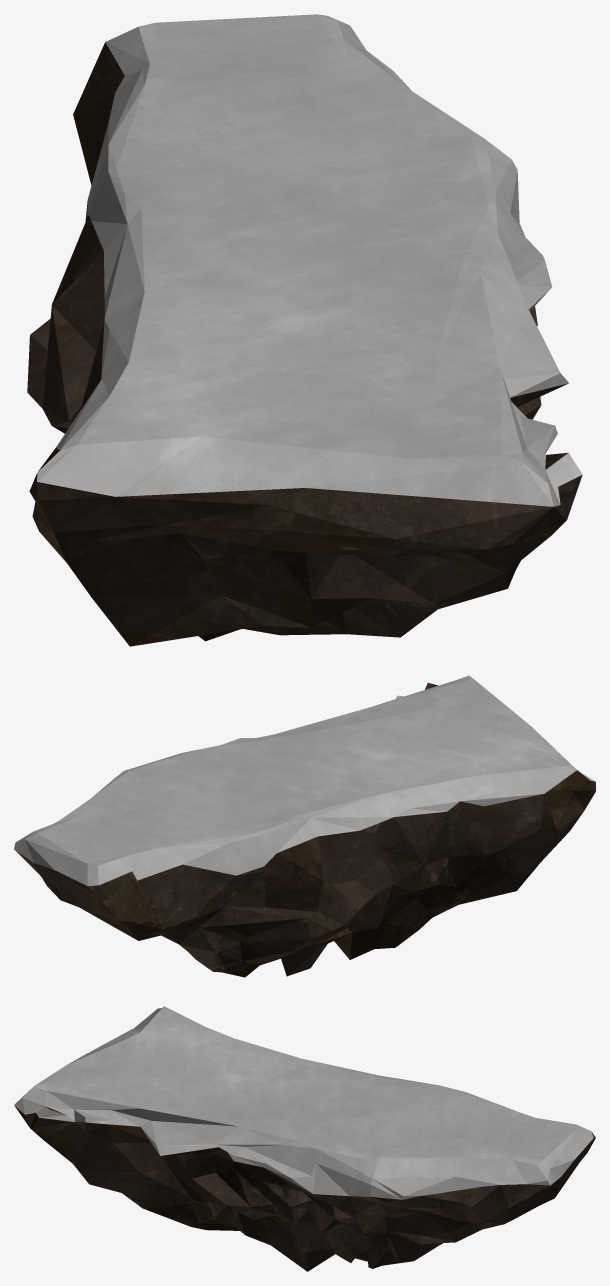
The model's file is maya_level_04.fbx.
3 views of the same model, one above another, from view 1: azimuth 30°, elevation 25°; view 2: azimuth 150°, elevation 25°; view 3: azimuth 270°, elevation 25° (orthographic). The views are drawn at different scales.
Visible parts, largest first — view 1: maya_level_04; view 2: maya_level_04; view 3: maya_level_04.
Boxes of the visible parts, x1=… form: maya_level_04: x1=27, y1=14, x2=582, y2=646; maya_level_04: x1=14, y1=675, x2=595, y2=977; maya_level_04: x1=14, y1=1006, x2=595, y2=1271.
Size of the model in its own units: 3209 by 1457 by 4482.
